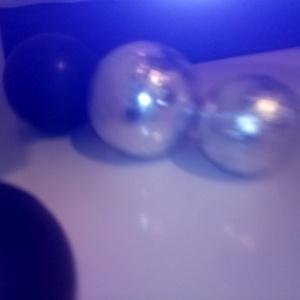alive_ball: (88, 40, 202, 159), (196, 73, 300, 176)
dead_ball: (2, 33, 98, 132), (1, 181, 75, 300)
